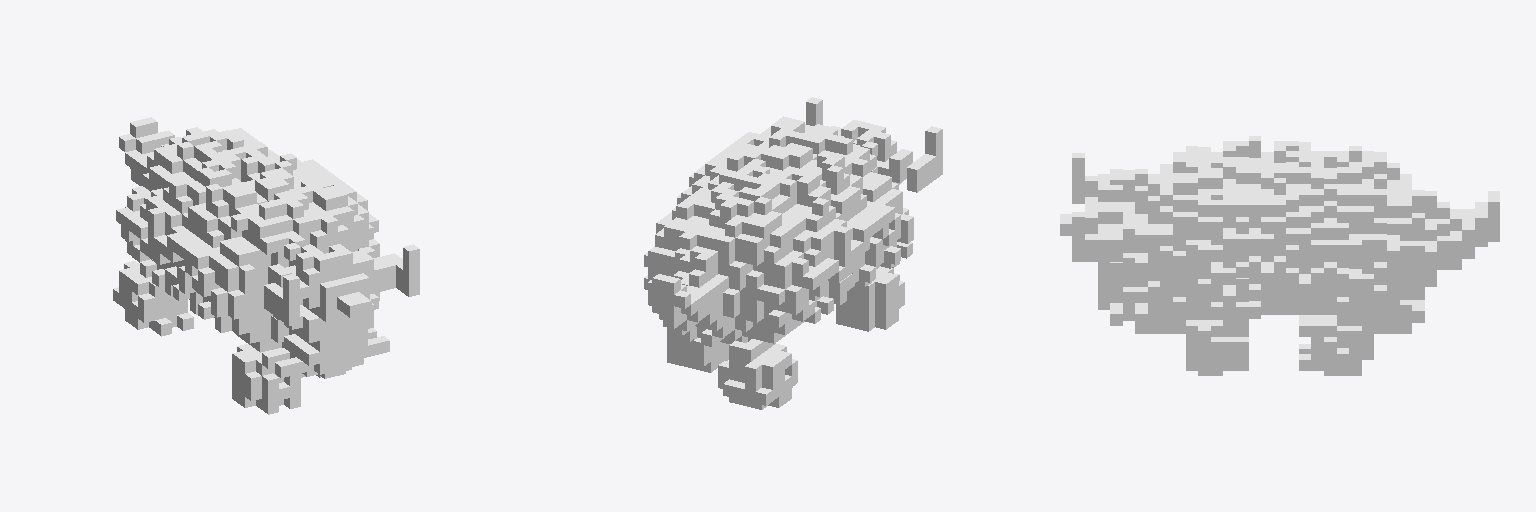
Rendered from bear-run01.obj.
3 renders of one model, left to right at view 1: azimuth 30°, elevation 25°; view 2: azimuth 150°, elevation 25°; view 3: azimuth 270°, elevation 25°, orthographic.
Size of the model in its own units: 17 by 16 by 35.